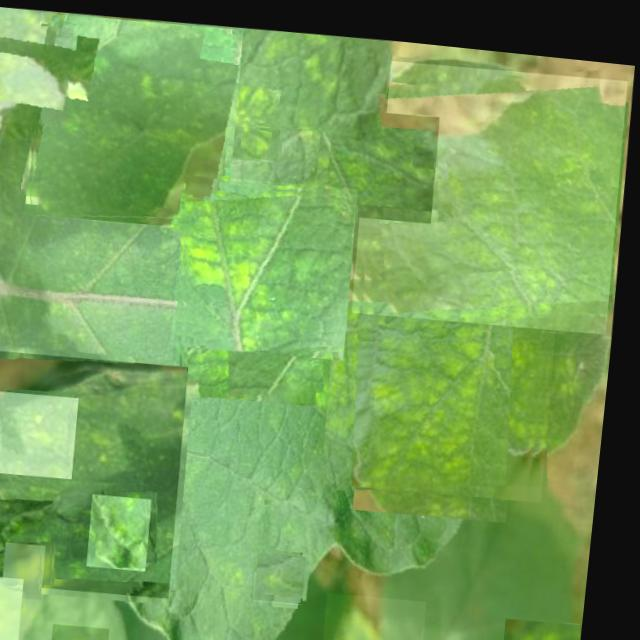leaf_spot: (353, 46, 632, 324), (326, 250, 568, 492), (0, 343, 200, 596), (24, 7, 246, 229), (175, 165, 364, 354), (177, 230, 347, 399), (235, 20, 394, 131), (326, 97, 443, 214), (0, 18, 76, 125), (0, 388, 88, 476), (332, 581, 440, 640), (209, 76, 286, 154), (97, 489, 163, 566), (511, 603, 595, 640), (266, 544, 319, 597), (12, 538, 58, 597), (0, 570, 37, 640), (64, 618, 123, 640), (274, 491, 280, 497)
